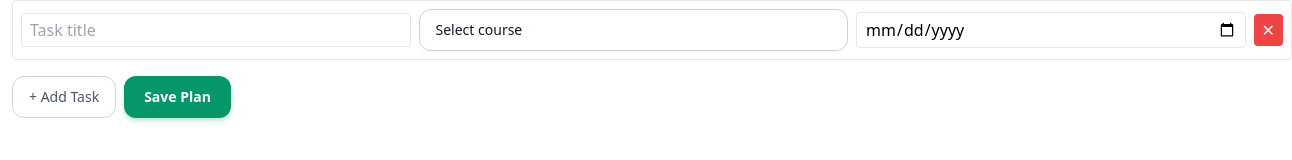
it: StudyPlanForm › shows "Saving…" while the plan is being saved
This screenshot has width=1292, height=160.
Type "Study" into the field with placeholder "Task title".
click(216, 30); type("Study")  # box [21,13,410,47]
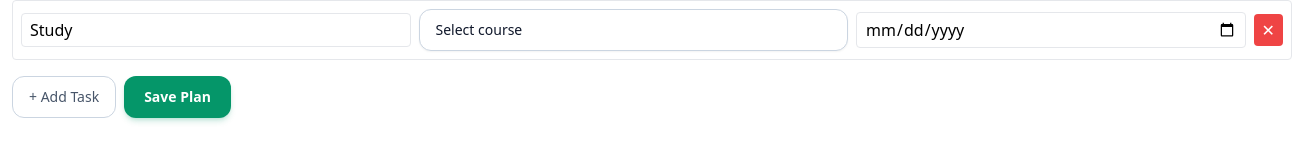
Select "Maths" in the dropdown at {"x": 633, "y": 30}, box [418,9,848,51]
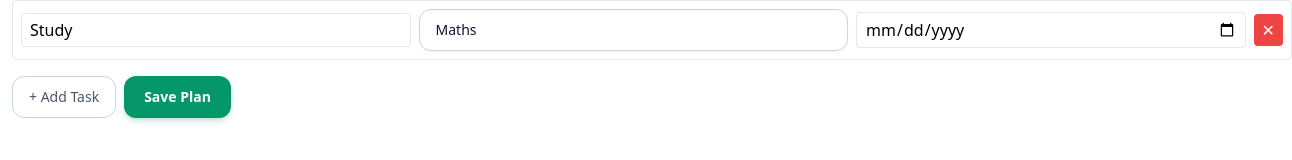
Type "2026-06-01" into the date field.
click(1051, 30); type("2026-06-01")  # box [856,12,1246,48]
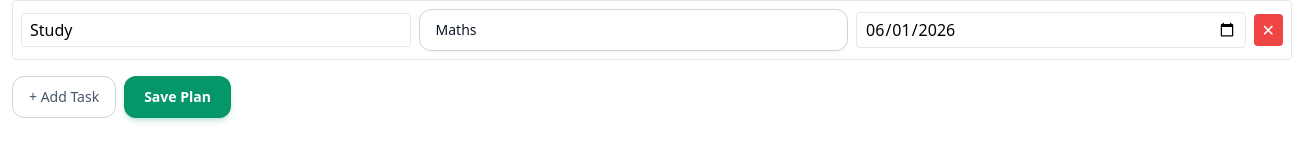
Click the button "Save Plan".
click(178, 97)  # box [124,76,231,118]
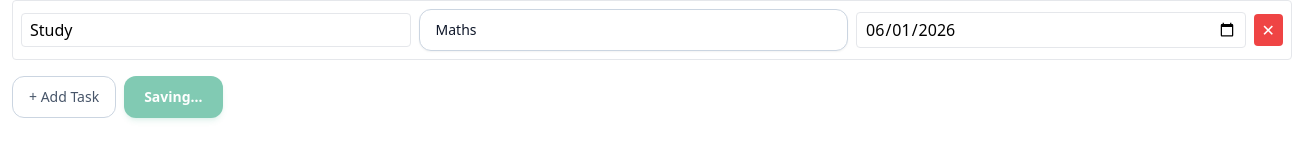
Check: the button "Saving…" is disabled, box [124,76,223,118]
